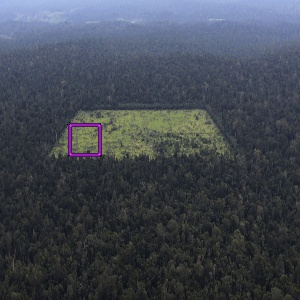square: (67, 123, 103, 156)
